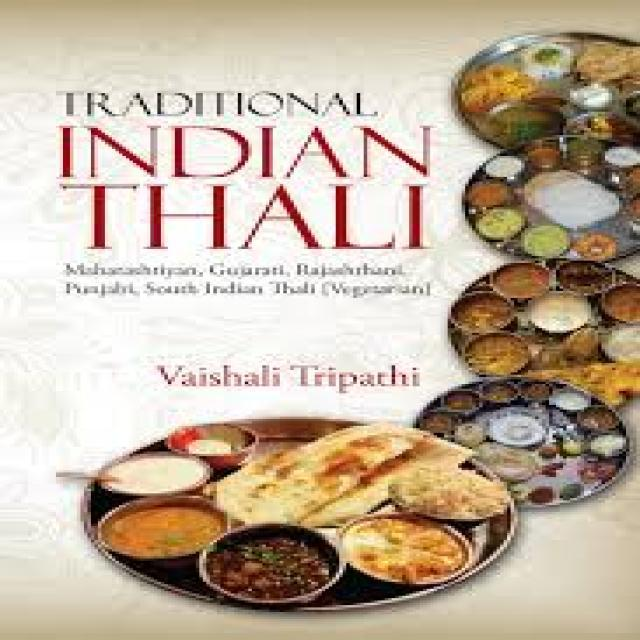dal: (96, 500, 234, 565)
papad: (390, 465, 511, 521)
rice: (378, 465, 510, 525), (519, 42, 576, 78)
roti: (228, 424, 455, 532), (575, 42, 637, 82)
sambar-rasam: (89, 497, 238, 567), (89, 451, 227, 499), (156, 421, 263, 458), (482, 261, 564, 295)
sweet: (161, 422, 260, 460)
veg-fry: (197, 526, 350, 610)
